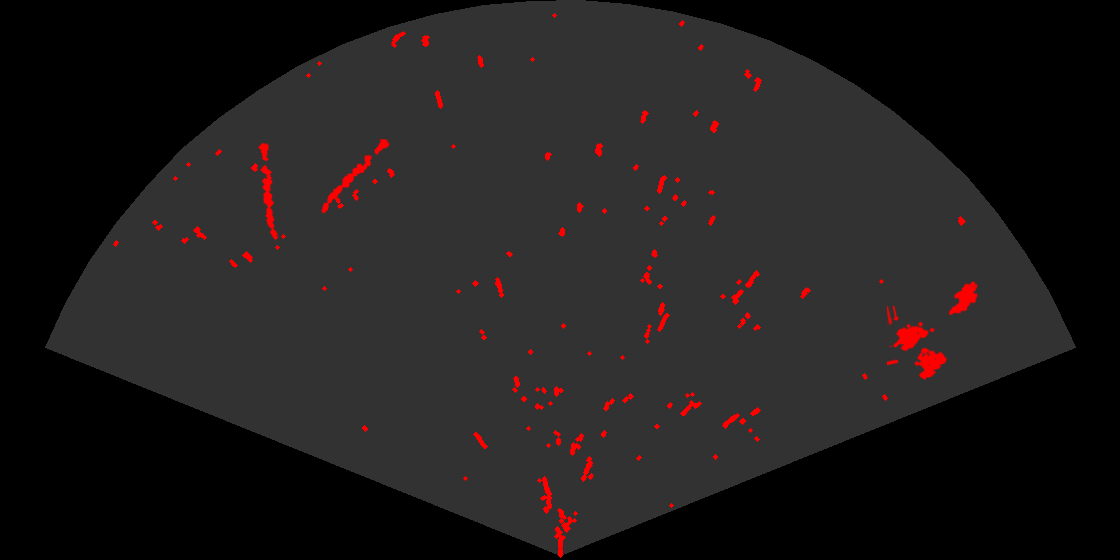AUV: (947, 280, 979, 317)
cage: (887, 306, 949, 382)
chain: (320, 137, 391, 215), (257, 141, 280, 242)
